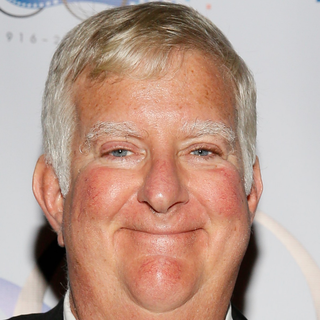eye: (97, 141, 143, 165), (181, 141, 227, 165)
